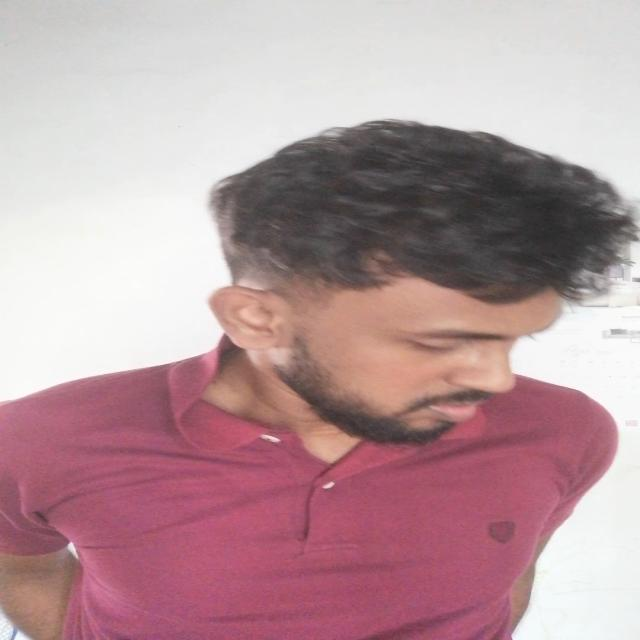Person: (3, 115, 640, 640)
